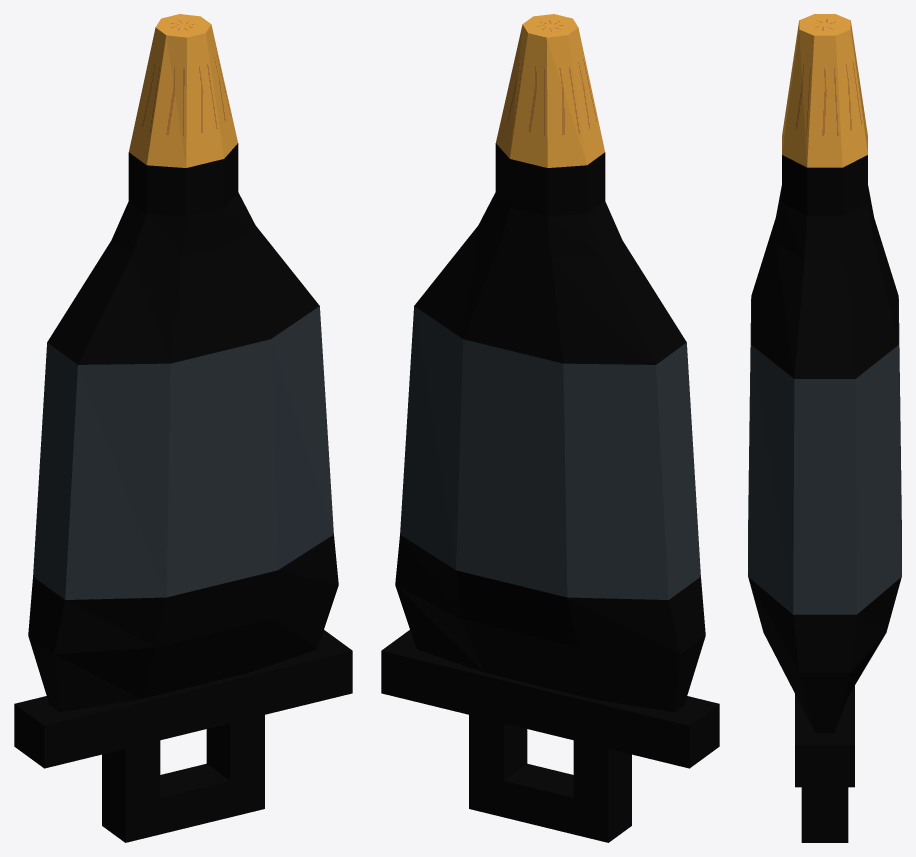
File: simulated_honey_glue.obj
3 views of the same model, side by side, from view 1: azimuth 30°, elevation 25°; view 2: azimuth 150°, elevation 25°; view 3: azimuth 270°, elevation 25° (orthographic).
Visible parts, largest first — view 1: squeeze_tube, crimped_tail, tail_loop; view 2: squeeze_tube, crimped_tail, tail_loop; view 3: squeeze_tube, crimped_tail, tail_loop.
Part boxes in pixels (bbox=[...]): squeeze_tube: bbox=[28, 14, 338, 712]; crimped_tail: bbox=[14, 630, 352, 768]; tail_loop: bbox=[102, 715, 264, 842]; squeeze_tube: bbox=[395, 14, 705, 712]; crimped_tail: bbox=[381, 630, 719, 768]; tail_loop: bbox=[469, 715, 631, 842]; squeeze_tube: bbox=[748, 14, 901, 732]; crimped_tail: bbox=[795, 686, 854, 787]; tail_loop: bbox=[801, 787, 848, 842].
Size of the model in its own units: 0.3312 by 0.8125 by 0.1444.
